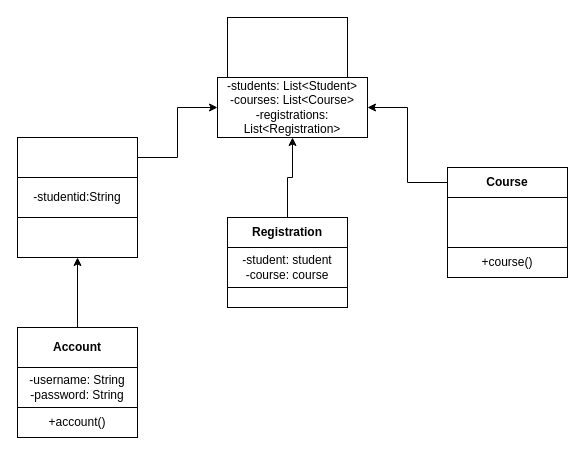
The diagram is 585 pixels wide and 455 high, and some of its shapes have lost their labels. Each missing label, with the centre of its shape:
+registration: the point at 287,297
+student(): the point at 77,237
-courseid: string -coursename: string: the point at 507,222
RegistrationManager: the point at 287,47
student: the point at 77,157
